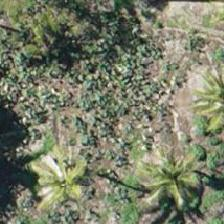coconut_tree: (42, 124, 132, 214), (119, 135, 209, 223)
